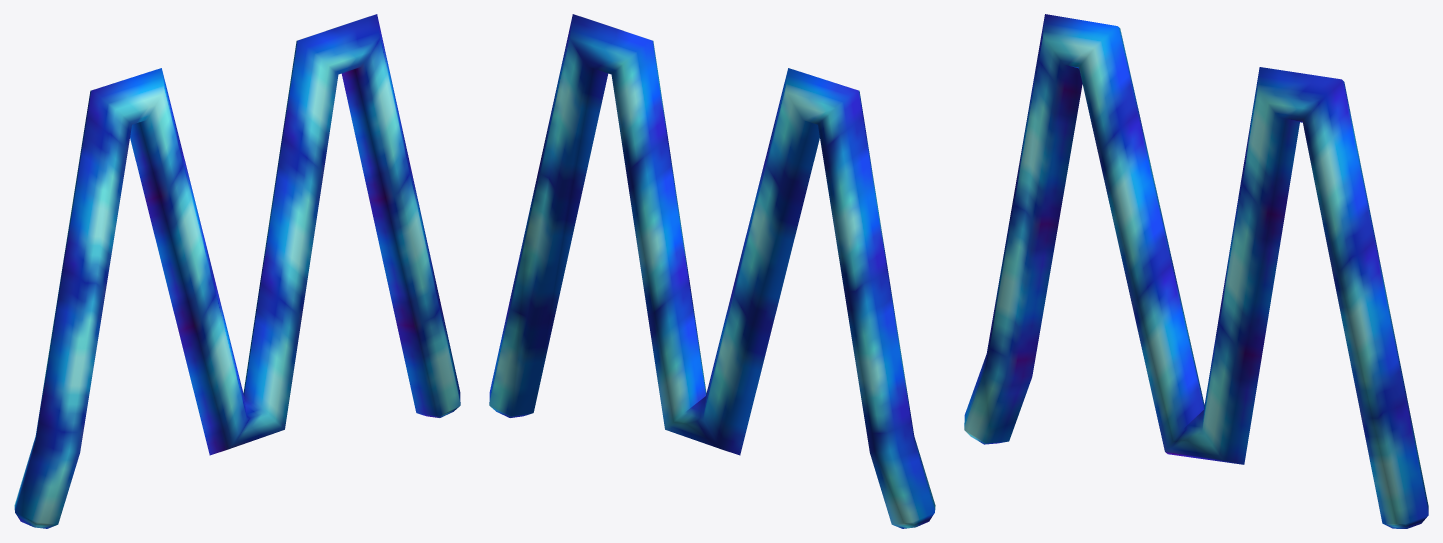
File: furni_0200170.FBX
The picture shows the model from 3 angles, left to right: view 1: azimuth 30°, elevation 25°; view 2: azimuth 150°, elevation 25°; view 3: azimuth 330°, elevation 25°; orthographic projection. The views are drawn at different scales.
Parts seen in each view (by area): view 1: furni_0200170; view 2: furni_0200170; view 3: furni_0200170.
Part boxes in pixels (<box>): furni_0200170: <box>14,14,460,528</box>; furni_0200170: <box>489,14,935,528</box>; furni_0200170: <box>964,14,1428,528</box>.
Size of the model in its own units: 59.31 by 54.74 by 5.2.
